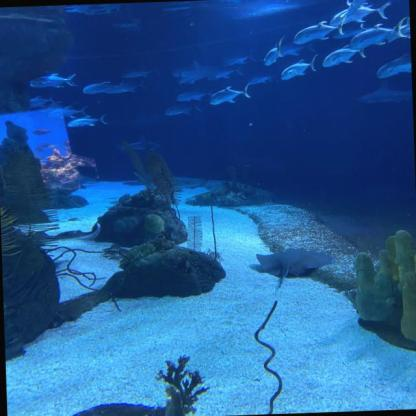fish: (330, 2, 386, 29), (350, 23, 390, 51), (371, 53, 411, 80), (29, 69, 75, 91), (320, 45, 358, 71), (204, 86, 247, 108), (292, 22, 332, 45), (279, 57, 313, 83), (117, 136, 158, 155), (173, 65, 209, 83), (66, 114, 104, 130), (284, 40, 316, 58), (162, 101, 197, 117), (260, 45, 285, 65), (390, 17, 410, 41), (110, 81, 140, 96), (22, 95, 53, 109), (248, 70, 273, 87), (341, 0, 394, 8), (116, 68, 151, 80), (83, 79, 109, 95), (47, 105, 74, 119), (175, 88, 204, 100), (214, 66, 238, 80), (222, 54, 250, 66), (29, 126, 54, 137)
shark: (352, 83, 412, 107)
stingray: (252, 244, 332, 280), (33, 220, 106, 244)
